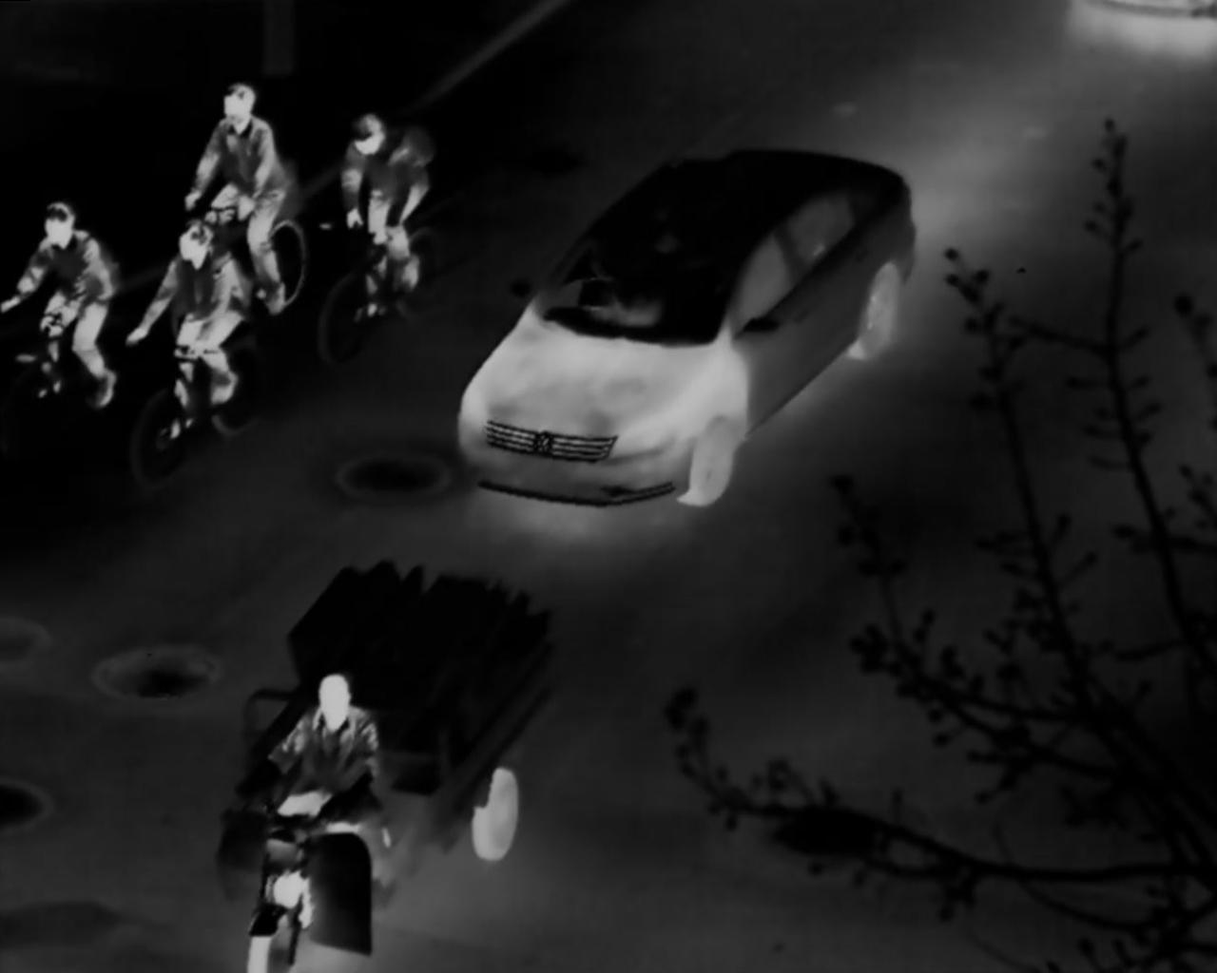person: (125, 219, 245, 442), (184, 80, 294, 315), (2, 200, 116, 408), (268, 672, 382, 860), (338, 112, 427, 320)
